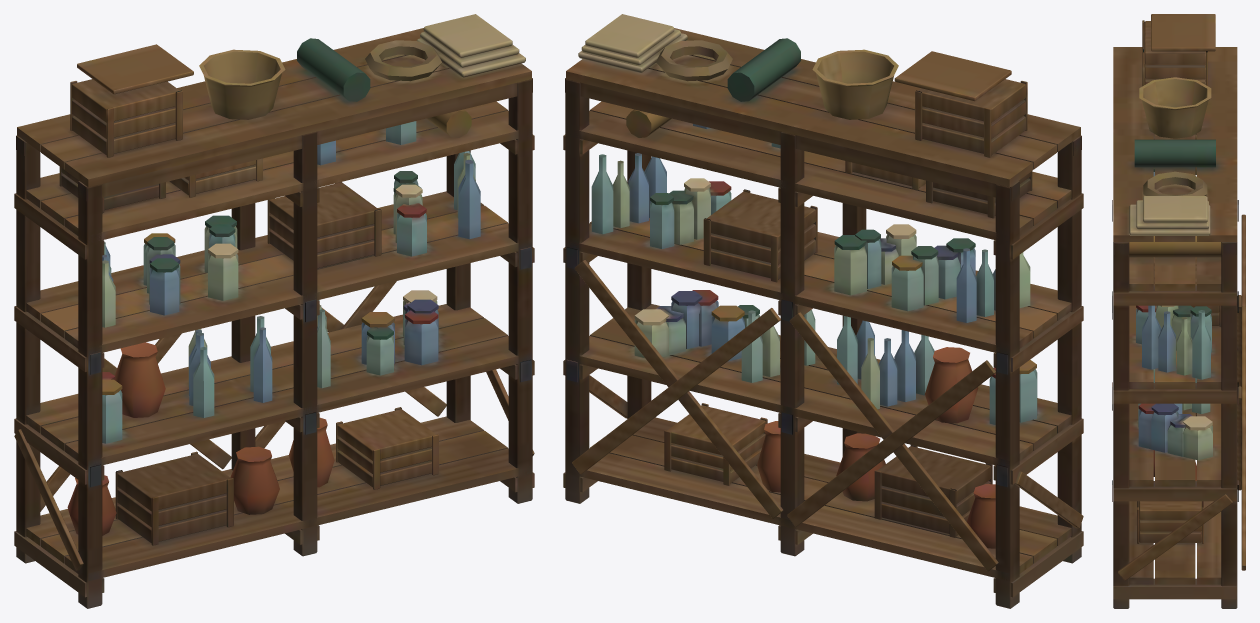
File: rack-long.glb
The picture shows the model from 3 angles, left to right: view 1: azimuth 30°, elevation 25°; view 2: azimuth 150°, elevation 25°; view 3: azimuth 270°, elevation 25°; orthographic projection. The views are drawn at different scales.
Visible parts, largest first — view 1: rack-long; view 2: rack-long; view 3: rack-long.
Part boxes in pixels (x1,y1,x2,y2): rack-long: (14,14,534,608); rack-long: (563,14,1083,608); rack-long: (1112,14,1245,608).
Bounding box in the file's own units: 1.69 × 1.75 × 0.4965.
1 material, 1 textured.
